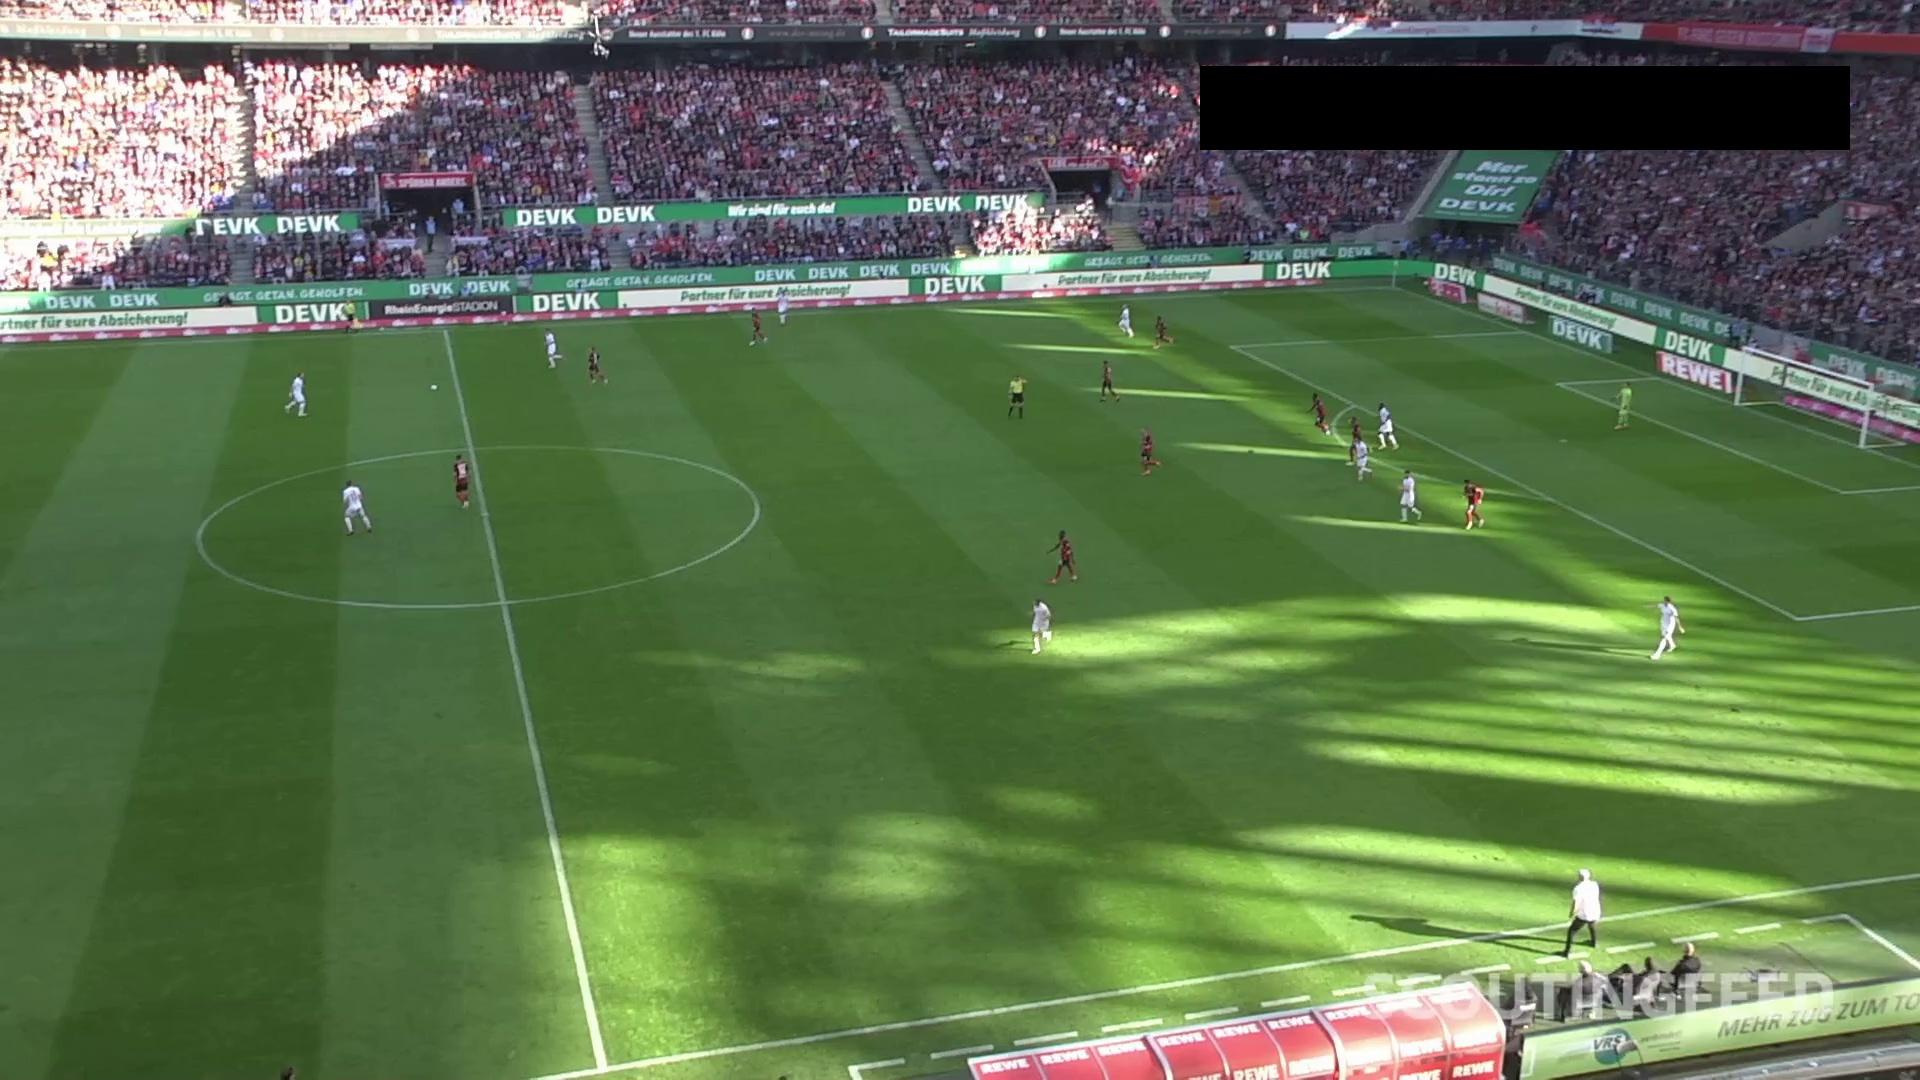Location-of-ball: (410, 365, 458, 409)
